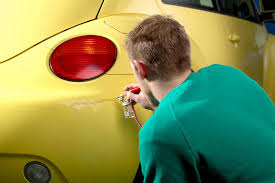scratch: (54, 93, 117, 116)
